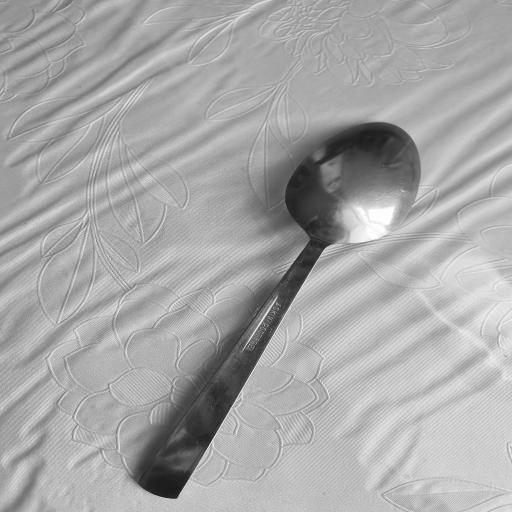spoon: (137, 121, 420, 499)
